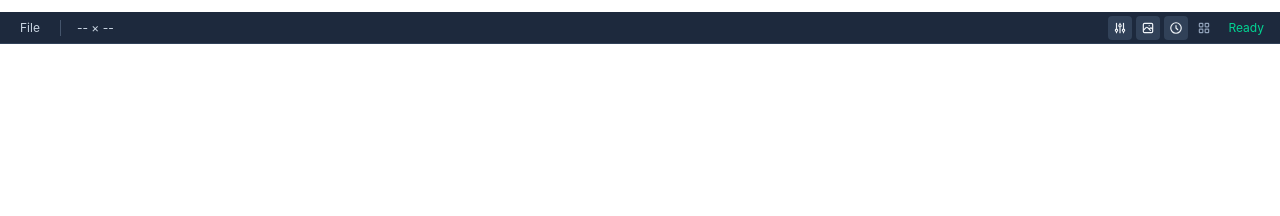
Test case: BottomPanel › Open from the File menu starts the open flow
What coordinates should you click on to do the following:
click the button "File"
I would click on:
 (30, 28)
Its box is [16,18,44,38].
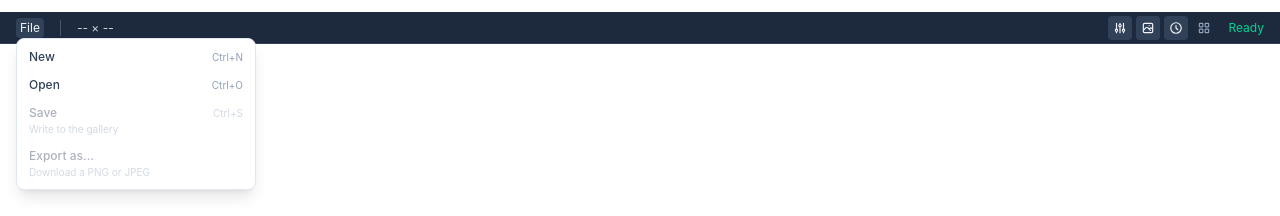
What coordinates should you click on to do the following:
click the text "Open"
I would click on:
 (44, 84)
Its box is [29,76,60,92].
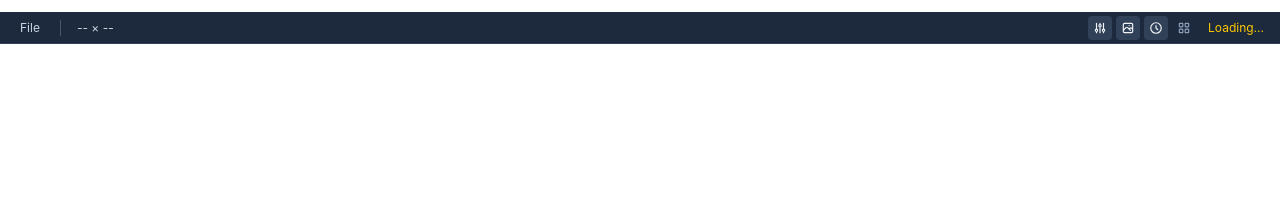
Expected: the text "Loading..." is shown, [1208,20,1264,36]
